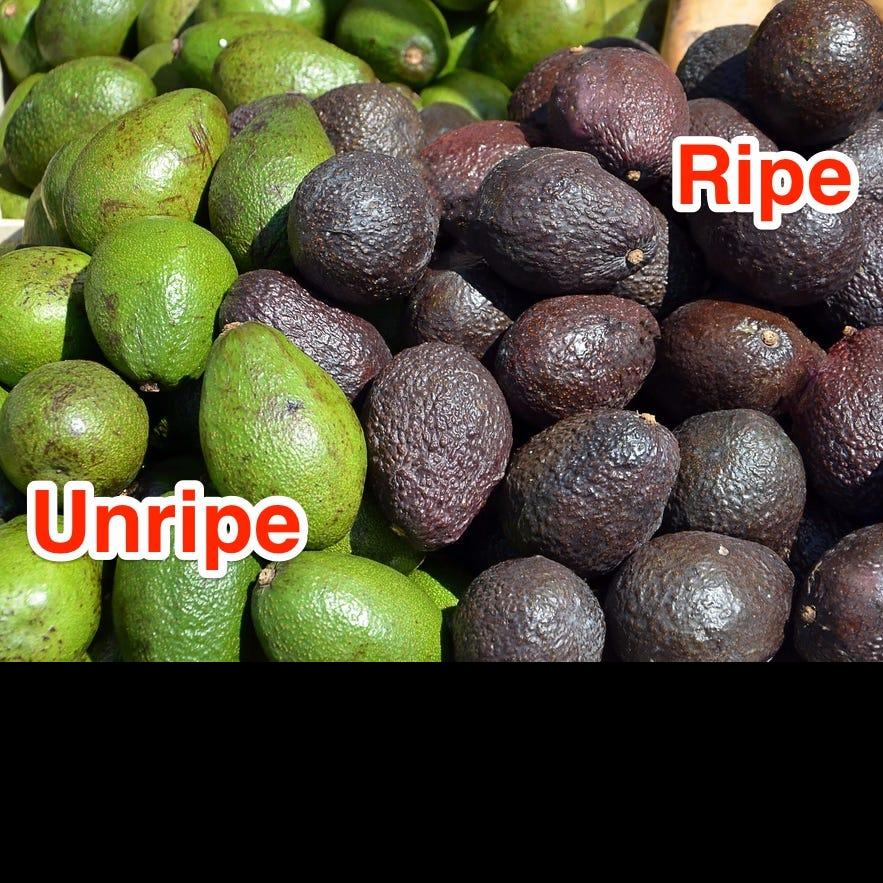ripe: (502, 409, 681, 574), (368, 342, 510, 546), (473, 146, 657, 294), (607, 531, 795, 662), (286, 153, 438, 312), (221, 269, 393, 404), (668, 408, 807, 563), (495, 296, 660, 420), (550, 46, 690, 191), (747, 1, 883, 149), (420, 121, 553, 249), (661, 299, 811, 412), (452, 557, 607, 662), (804, 325, 883, 499), (798, 522, 882, 662), (310, 83, 424, 161), (507, 49, 597, 134)
unripe: (198, 321, 368, 552), (83, 213, 241, 393), (63, 88, 230, 256), (208, 98, 337, 271), (247, 551, 446, 662), (23, 57, 157, 189), (22, 360, 149, 496), (214, 30, 381, 111), (332, 1, 451, 89), (172, 12, 307, 88)
